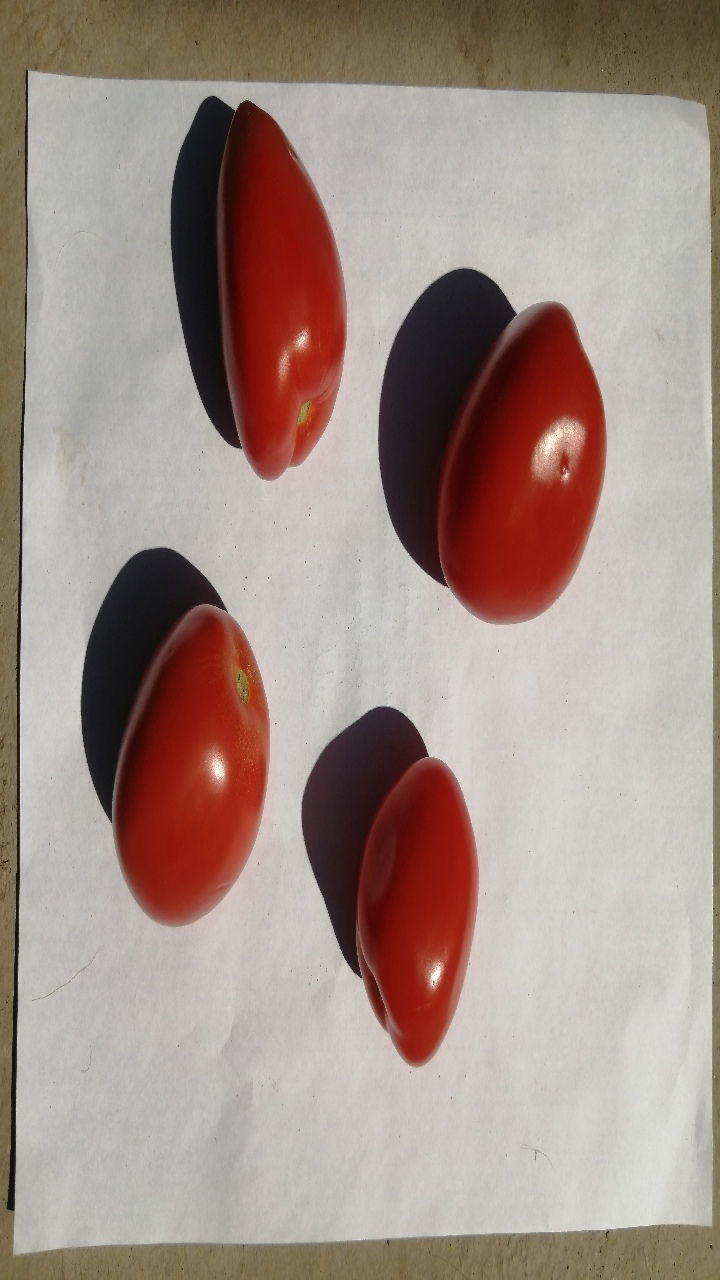tomateRojo: (398, 246, 628, 654), (174, 79, 369, 514), (78, 579, 284, 949), (332, 739, 512, 1091)
